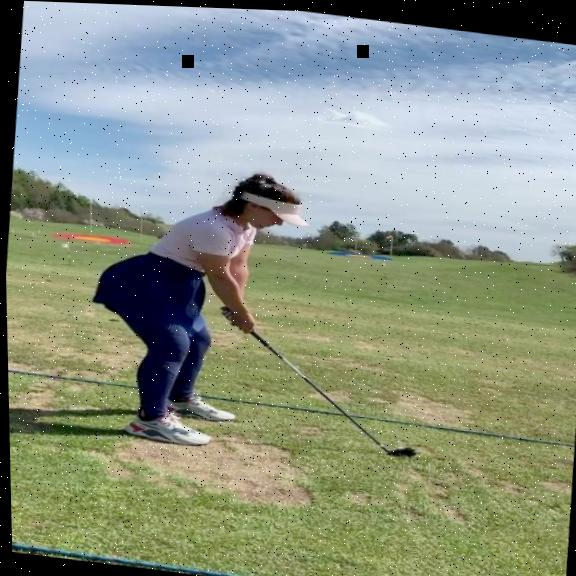ClubHead: (387, 443, 417, 456)
GolfBall: (394, 441, 402, 447)
